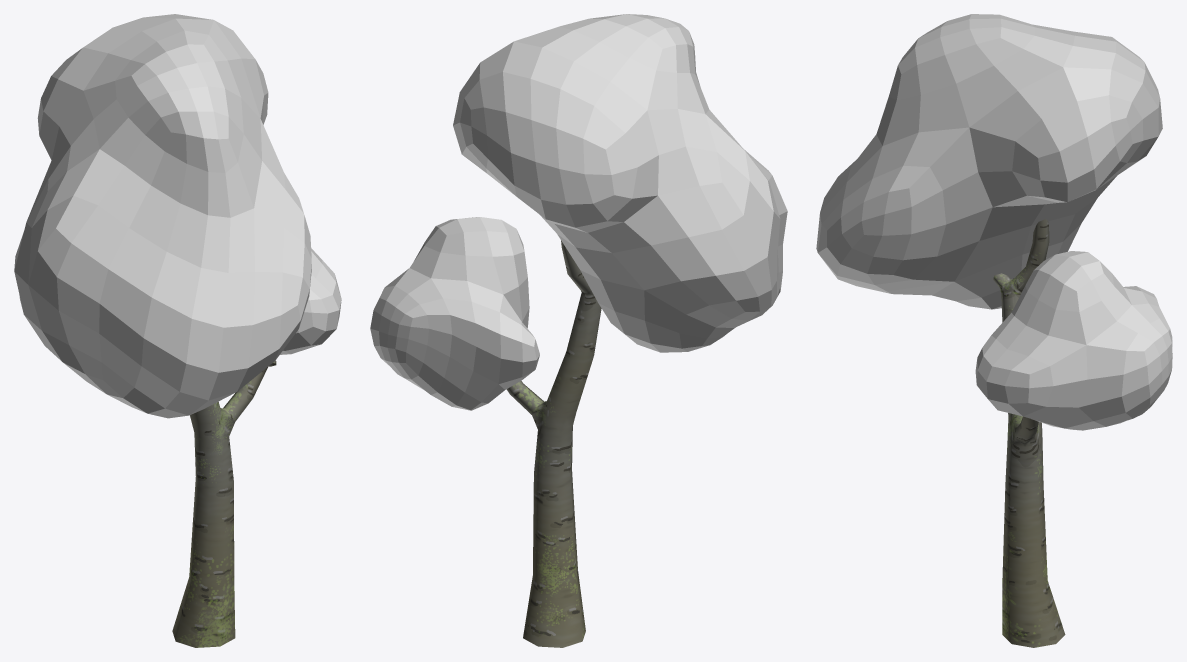
File: Beech.fbx
3 renders of one model, left to right at view 1: azimuth 30°, elevation 25°; view 2: azimuth 150°, elevation 25°; view 3: azimuth 270°, elevation 25°, orthographic. The views are drawn at different scales.
Parts seen in each view (by area): view 1: beech_crown, BEECH_trunk, BEECH_stump; view 2: beech_crown, BEECH_trunk, BEECH_stump; view 3: beech_crown, BEECH_trunk, BEECH_stump.
Part boxes in pixels (x1,y1,x2,y2): beech_crown: (14, 14, 341, 418); BEECH_trunk: (172, 360, 276, 647); BEECH_stump: (176, 603, 234, 646); beech_crown: (370, 14, 787, 410); BEECH_trunk: (506, 240, 601, 647); BEECH_stump: (528, 595, 585, 645); beech_crown: (816, 14, 1172, 430); BEECH_trunk: (993, 219, 1065, 647); BEECH_stump: (1002, 602, 1064, 647).
Bounding box in the file's own units: 273 × 488 × 266.
